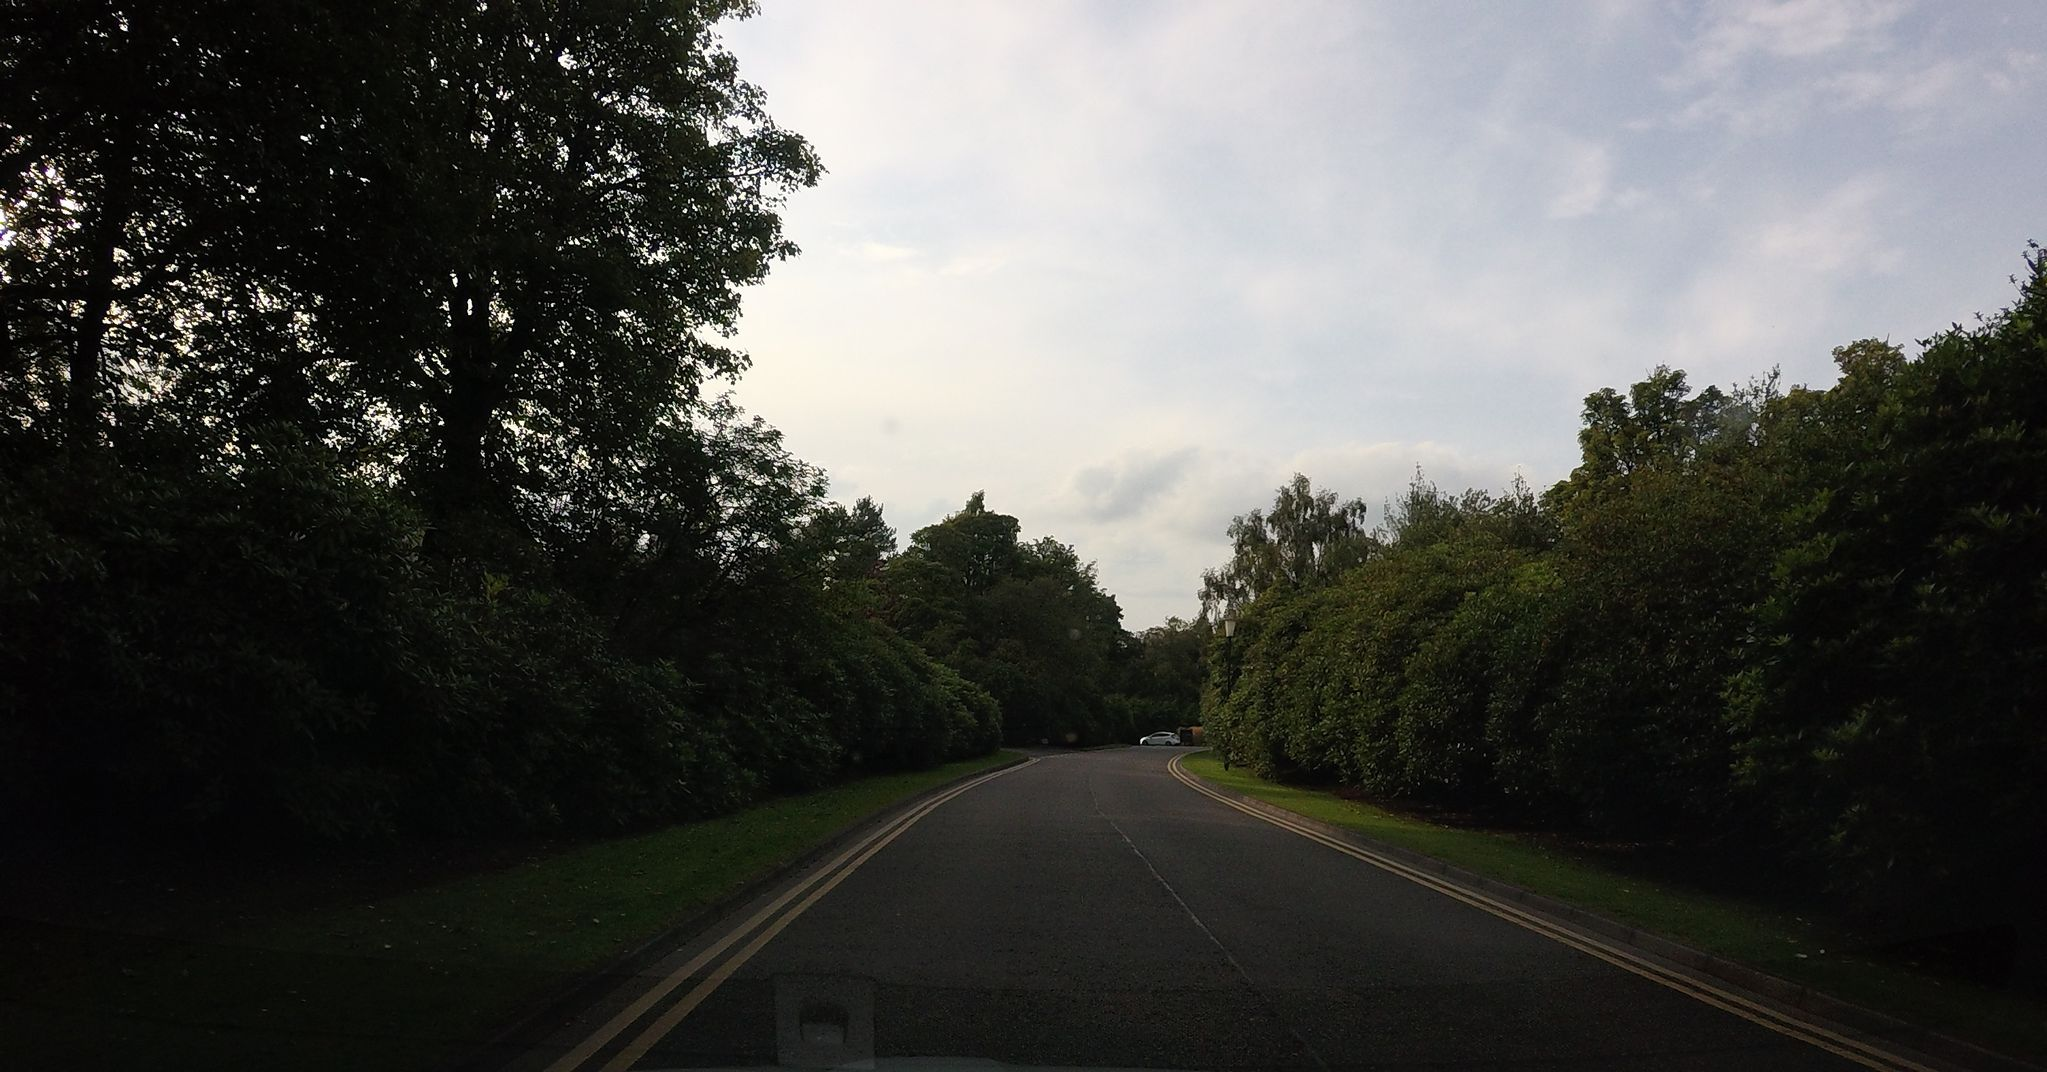car: (1139, 731, 1181, 744)
